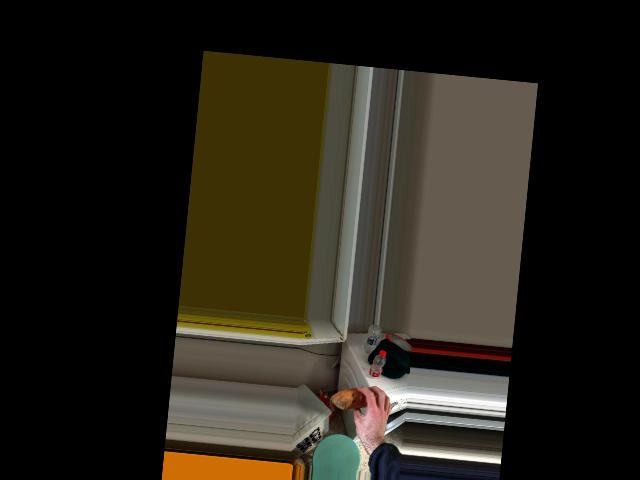sweet_potato: (339, 389, 373, 407)
